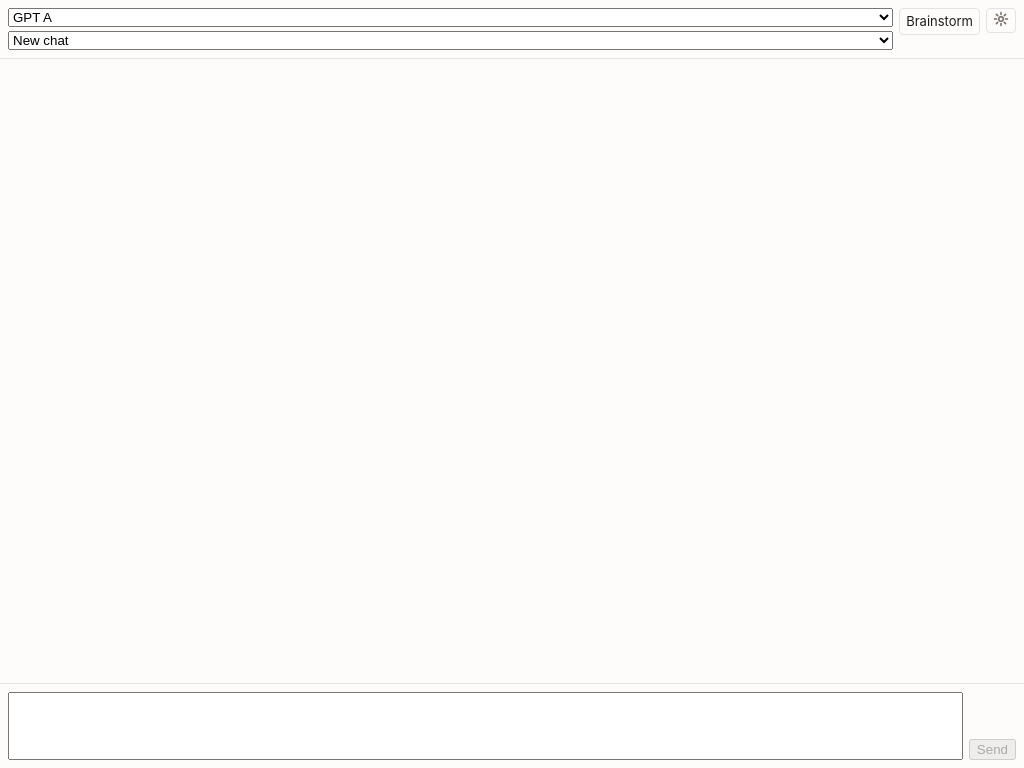
streams a reply into the conversation
Expected: the dropdown named "Model" shows "GPT A", [8,8,893,27]
Type "Who is   the villain?" into the text box named "Message" at (485,726), box [8,692,963,760]
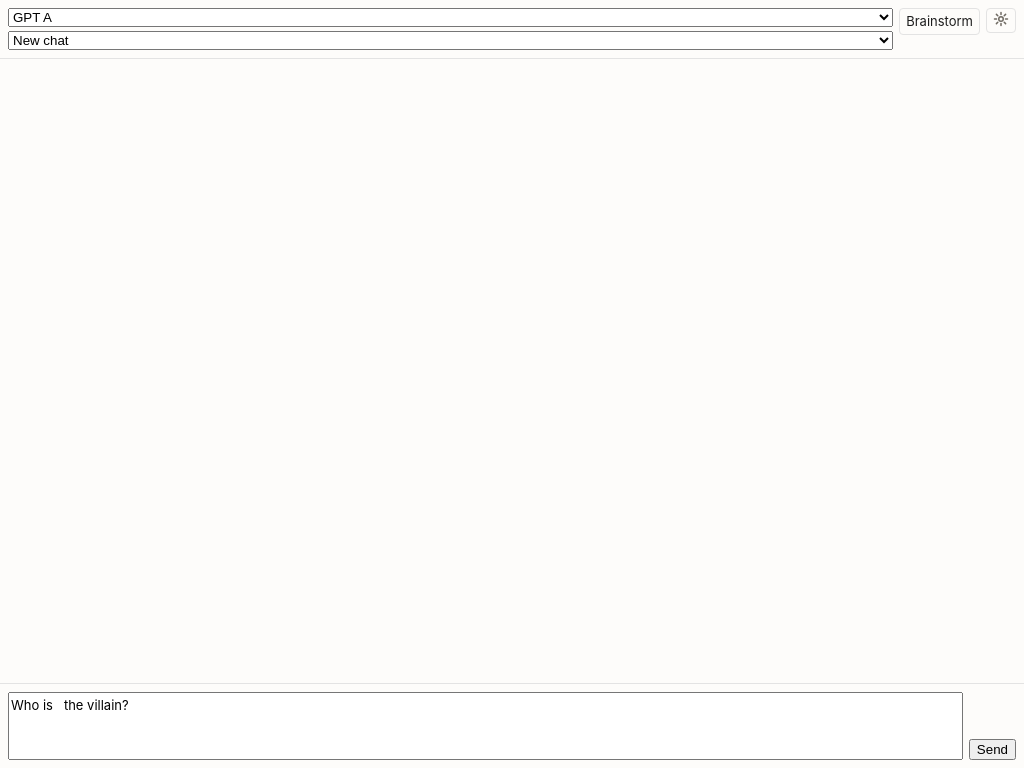
Press Enter in the text box named "Message", box [8,692,963,760]
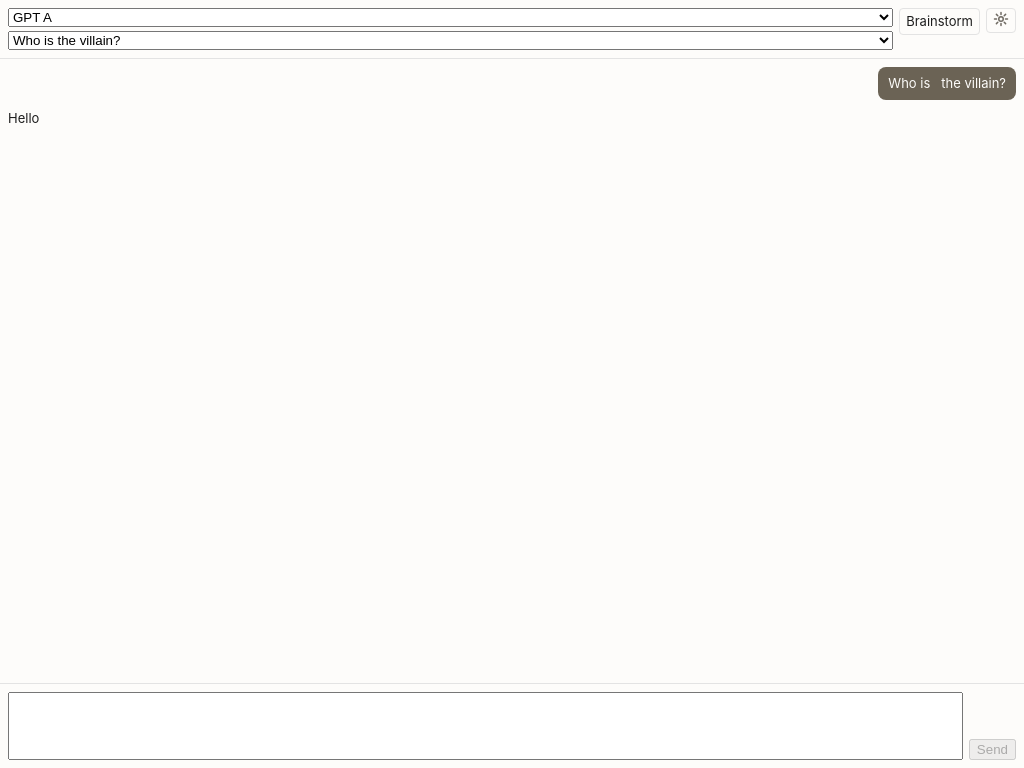
Expected: the button "Send" is shown, [969,739,1016,760]
Expected: the text box named "Message" is empty, [8,692,963,760]
Expected: the text "Hello" is shown, [8,108,39,129]
